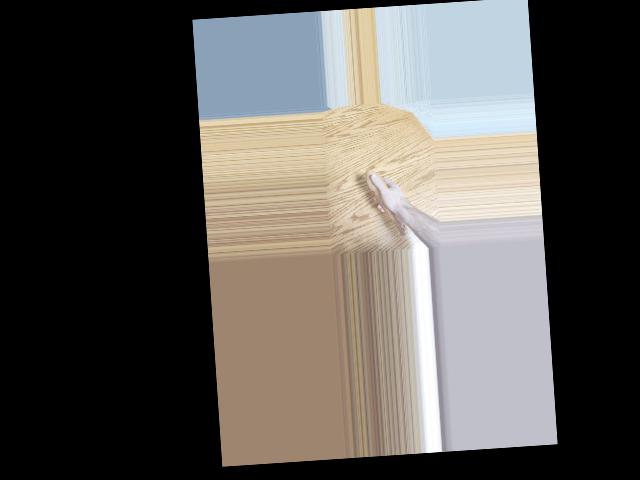sweet_potato: (366, 170, 409, 239)
